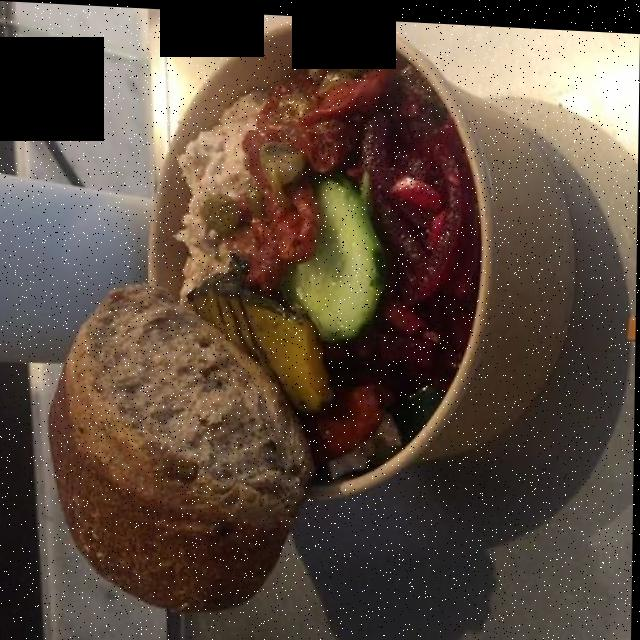beetroot-raw: (181, 51, 463, 459)
bread-wholemeal: (51, 285, 317, 603)
cucumber: (273, 170, 384, 340)
zucchini: (192, 264, 339, 414)
